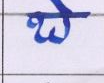e_matra: (47, 0, 75, 12)
